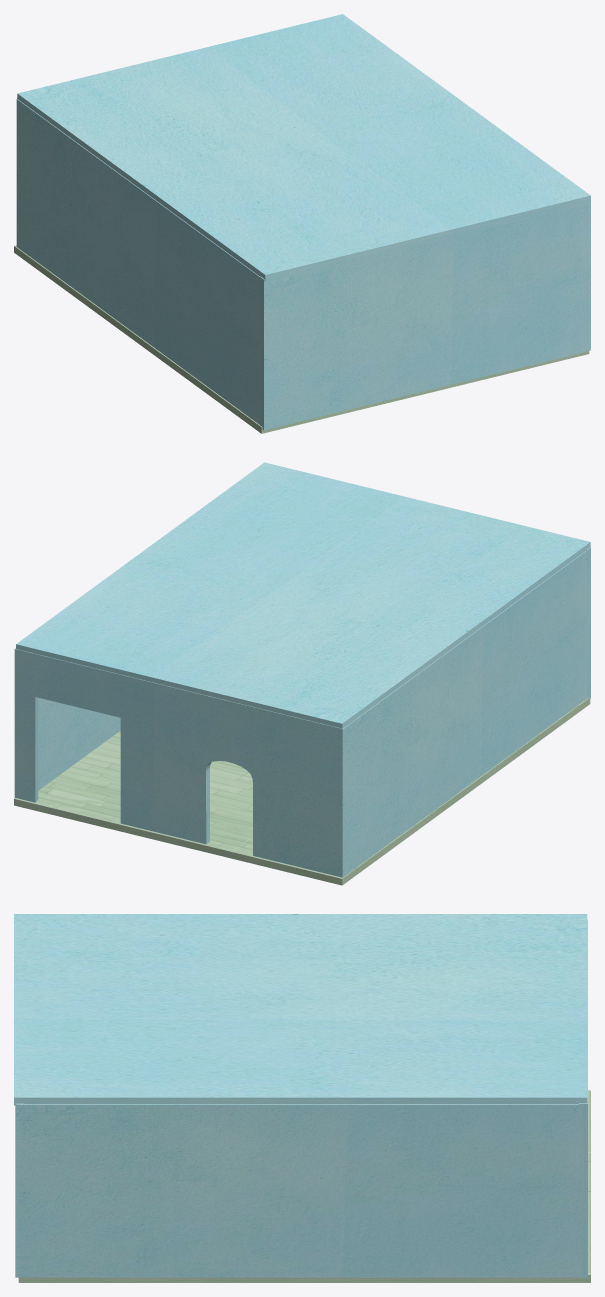
File: Cuarto.obj
3 renders of one model, top to bottom at view 1: azimuth 30°, elevation 25°; view 2: azimuth 150°, elevation 25°; view 3: azimuth 270°, elevation 25°, orthographic. The views are drawn at different scales.
Parts seen in each view (by area): view 1: polySurface486polySurface711; view 2: polySurface486polySurface711; view 3: polySurface486polySurface711.
Boxes of the visible parts, box(x1,y1,x2,y2) form: polySurface486polySurface711: box(14, 14, 590, 433); polySurface486polySurface711: box(14, 462, 590, 885); polySurface486polySurface711: box(14, 914, 590, 1282).
Bounding box in the file's own units: 0.8693 × 0.4043 × 1.14.
Materials: 2 (2 with a texture image).
